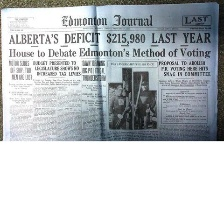news_paper: (0, 2, 219, 141)
